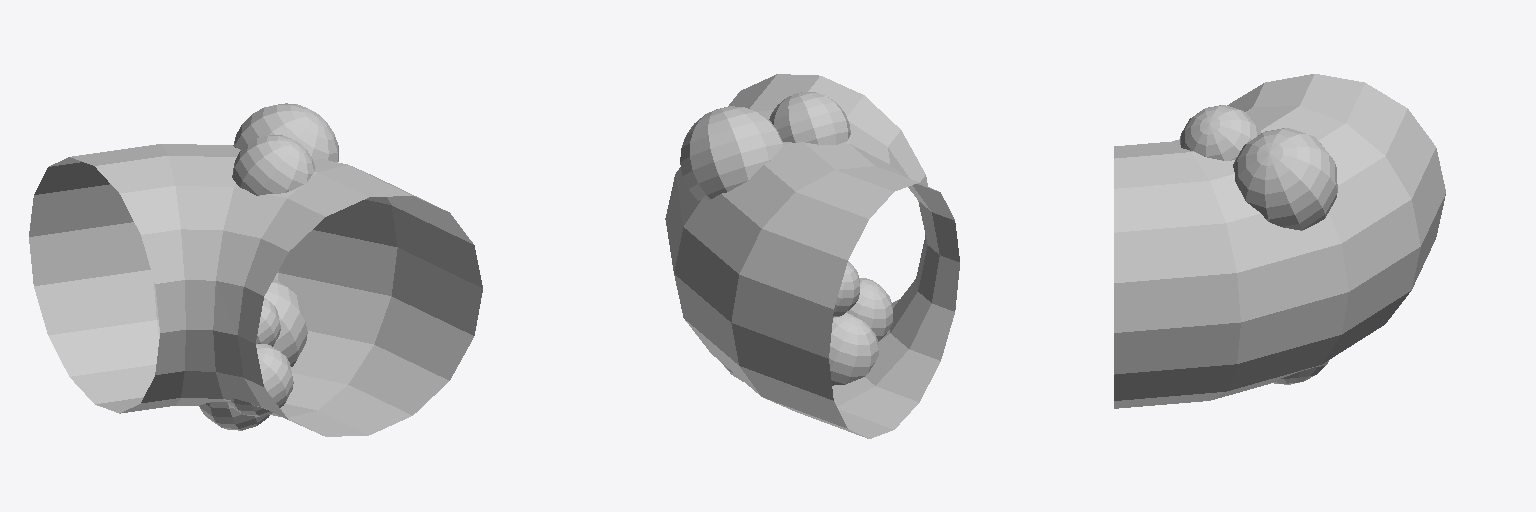
The picture shows the model from 3 angles: view 1: azimuth 30°, elevation 25°; view 2: azimuth 150°, elevation 25°; view 3: azimuth 270°, elevation 25°; orthographic projection.
Parts seen in each view (by area): view 1: sCurve_D; view 2: sCurve_D; view 3: sCurve_D.
Boxes of the visible parts, x1=… form: sCurve_D: x1=29, y1=103, x2=482, y2=436; sCurve_D: x1=665, y1=74, x2=959, y2=438; sCurve_D: x1=1114, y1=74, x2=1445, y2=408.
Size of the model in its own units: 104 by 97.42 by 104.